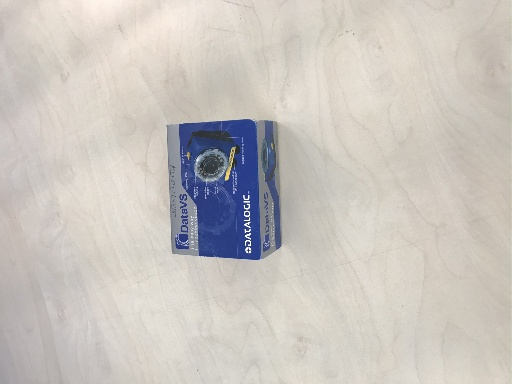Box: (164, 119, 286, 262)
